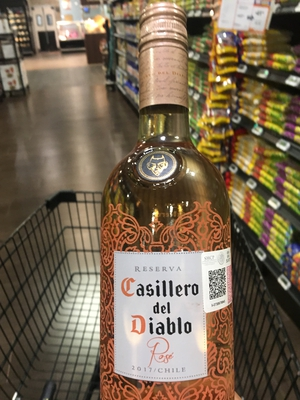casillero del diablo rose: (92, 8, 249, 400)
